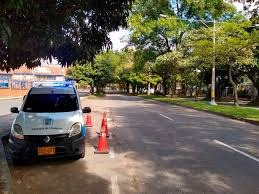car: (5, 83, 86, 162)
